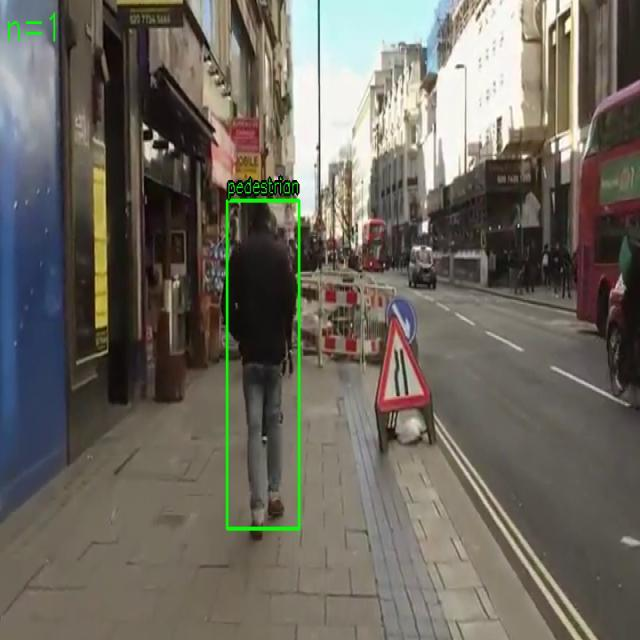with scooter: (227, 200, 300, 530)
